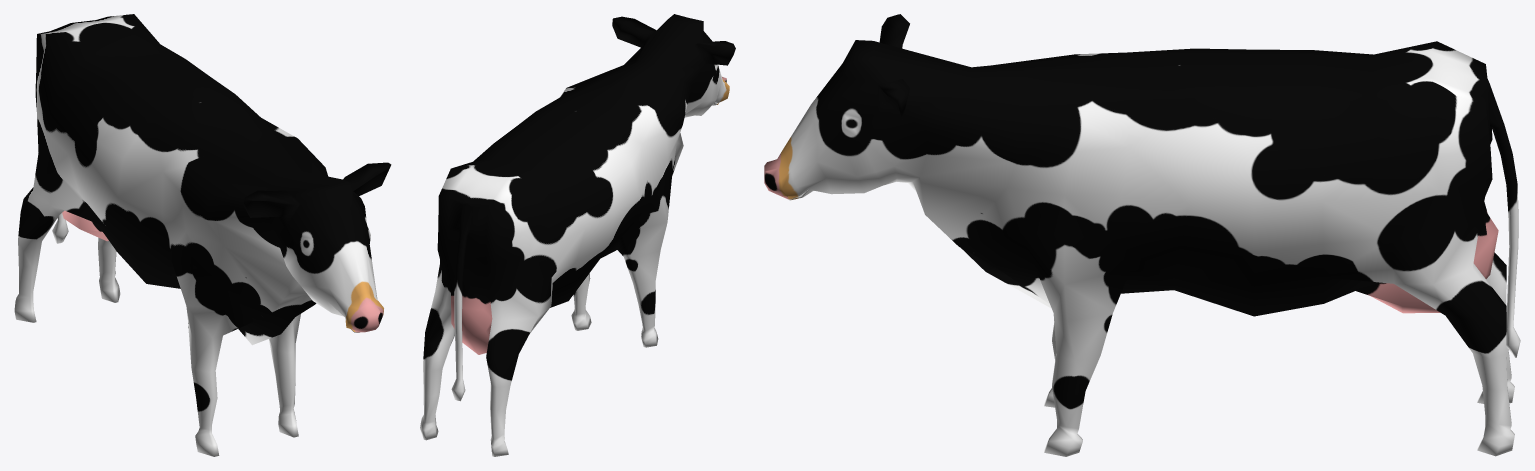
The picture shows the model from 3 angles, left to right: view 1: azimuth 30°, elevation 25°; view 2: azimuth 150°, elevation 25°; view 3: azimuth 270°, elevation 25°; orthographic projection. The views are drawn at different scales.
Bounding box in the file's own units: 65.31 × 124 × 226.
1 material, 1 textured.
